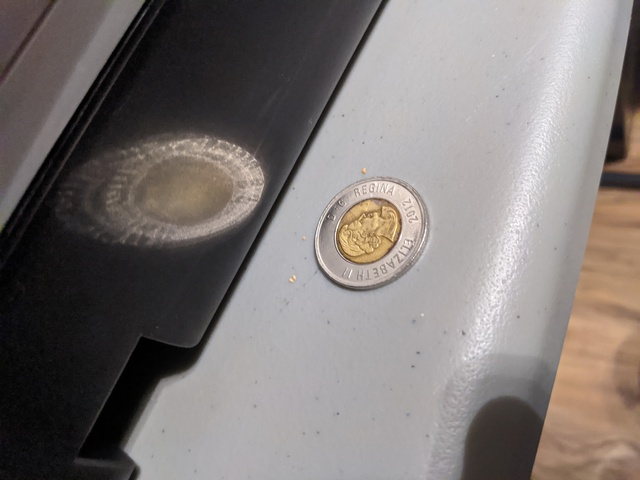twonie: (309, 171, 431, 289)
